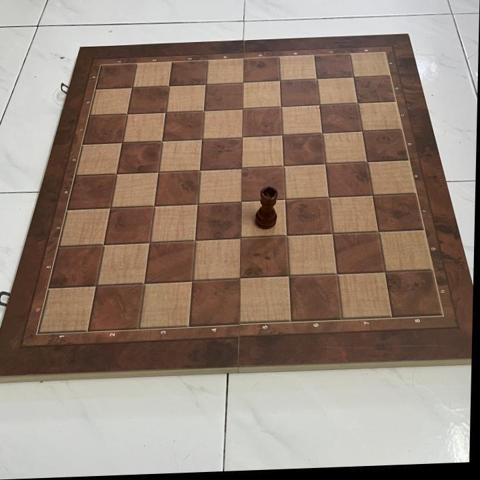xcorner: (346, 71, 363, 88), (309, 72, 326, 89), (272, 74, 289, 91), (235, 75, 252, 92), (197, 77, 214, 94), (160, 78, 177, 95), (123, 80, 140, 97), (312, 98, 329, 115), (273, 100, 290, 117), (234, 101, 251, 118), (196, 103, 213, 120), (157, 105, 174, 122), (118, 106, 135, 123), (355, 125, 372, 142), (315, 126, 332, 143), (234, 130, 251, 147), (194, 131, 211, 148), (113, 135, 130, 152), (360, 155, 377, 172), (318, 157, 335, 174), (276, 159, 293, 176), (234, 160, 251, 177), (192, 162, 209, 179), (150, 164, 167, 181), (108, 166, 125, 183), (365, 188, 382, 205), (278, 192, 295, 209), (234, 194, 251, 211), (190, 196, 207, 213), (146, 198, 163, 215), (102, 199, 119, 216), (371, 225, 388, 242), (279, 228, 296, 245), (233, 230, 250, 247), (187, 232, 204, 249), (141, 234, 158, 251), (95, 236, 112, 253), (378, 264, 395, 281), (281, 269, 298, 286), (233, 271, 250, 288), (185, 273, 202, 290), (136, 275, 153, 292), (88, 277, 105, 294), (275, 128, 291, 145), (154, 133, 170, 150), (322, 190, 338, 207), (325, 227, 342, 243), (351, 97, 367, 113), (330, 267, 346, 283)
